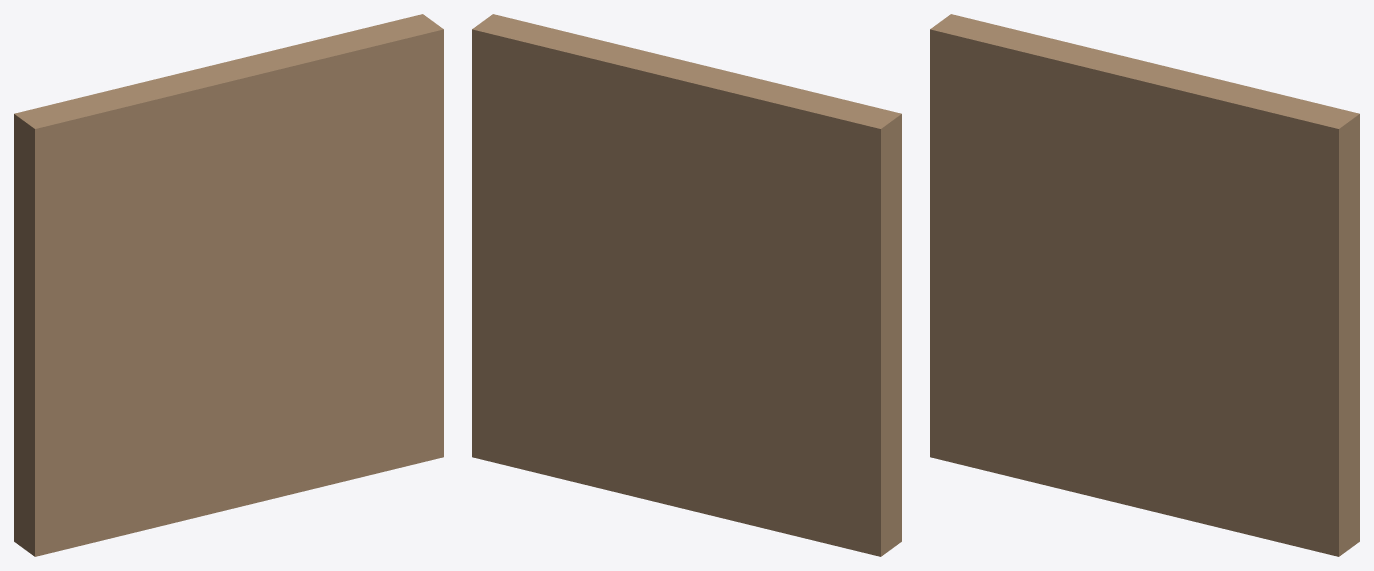
File: frosted_window.glb
The picture shows the model from 3 angles, left to right: view 1: azimuth 30°, elevation 25°; view 2: azimuth 150°, elevation 25°; view 3: azimuth 330°, elevation 25°; orthographic projection.
Parts seen in each view (by area): view 1: frame; view 2: frame; view 3: frame.
Part boxes in pixels (bbox=[...]): frame: bbox=[14, 14, 443, 556]; frame: bbox=[472, 14, 901, 556]; frame: bbox=[930, 14, 1359, 556].
Size of the model in its own units: 1.8 by 1.8 by 0.1602.
